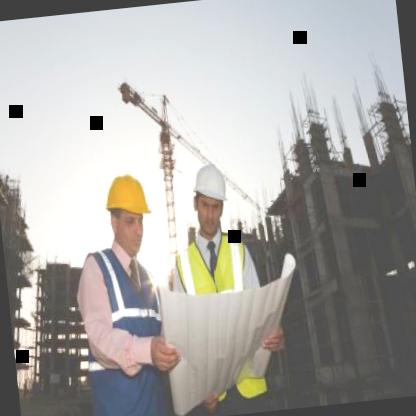helmet: (97, 160, 158, 260), (185, 155, 234, 240)
